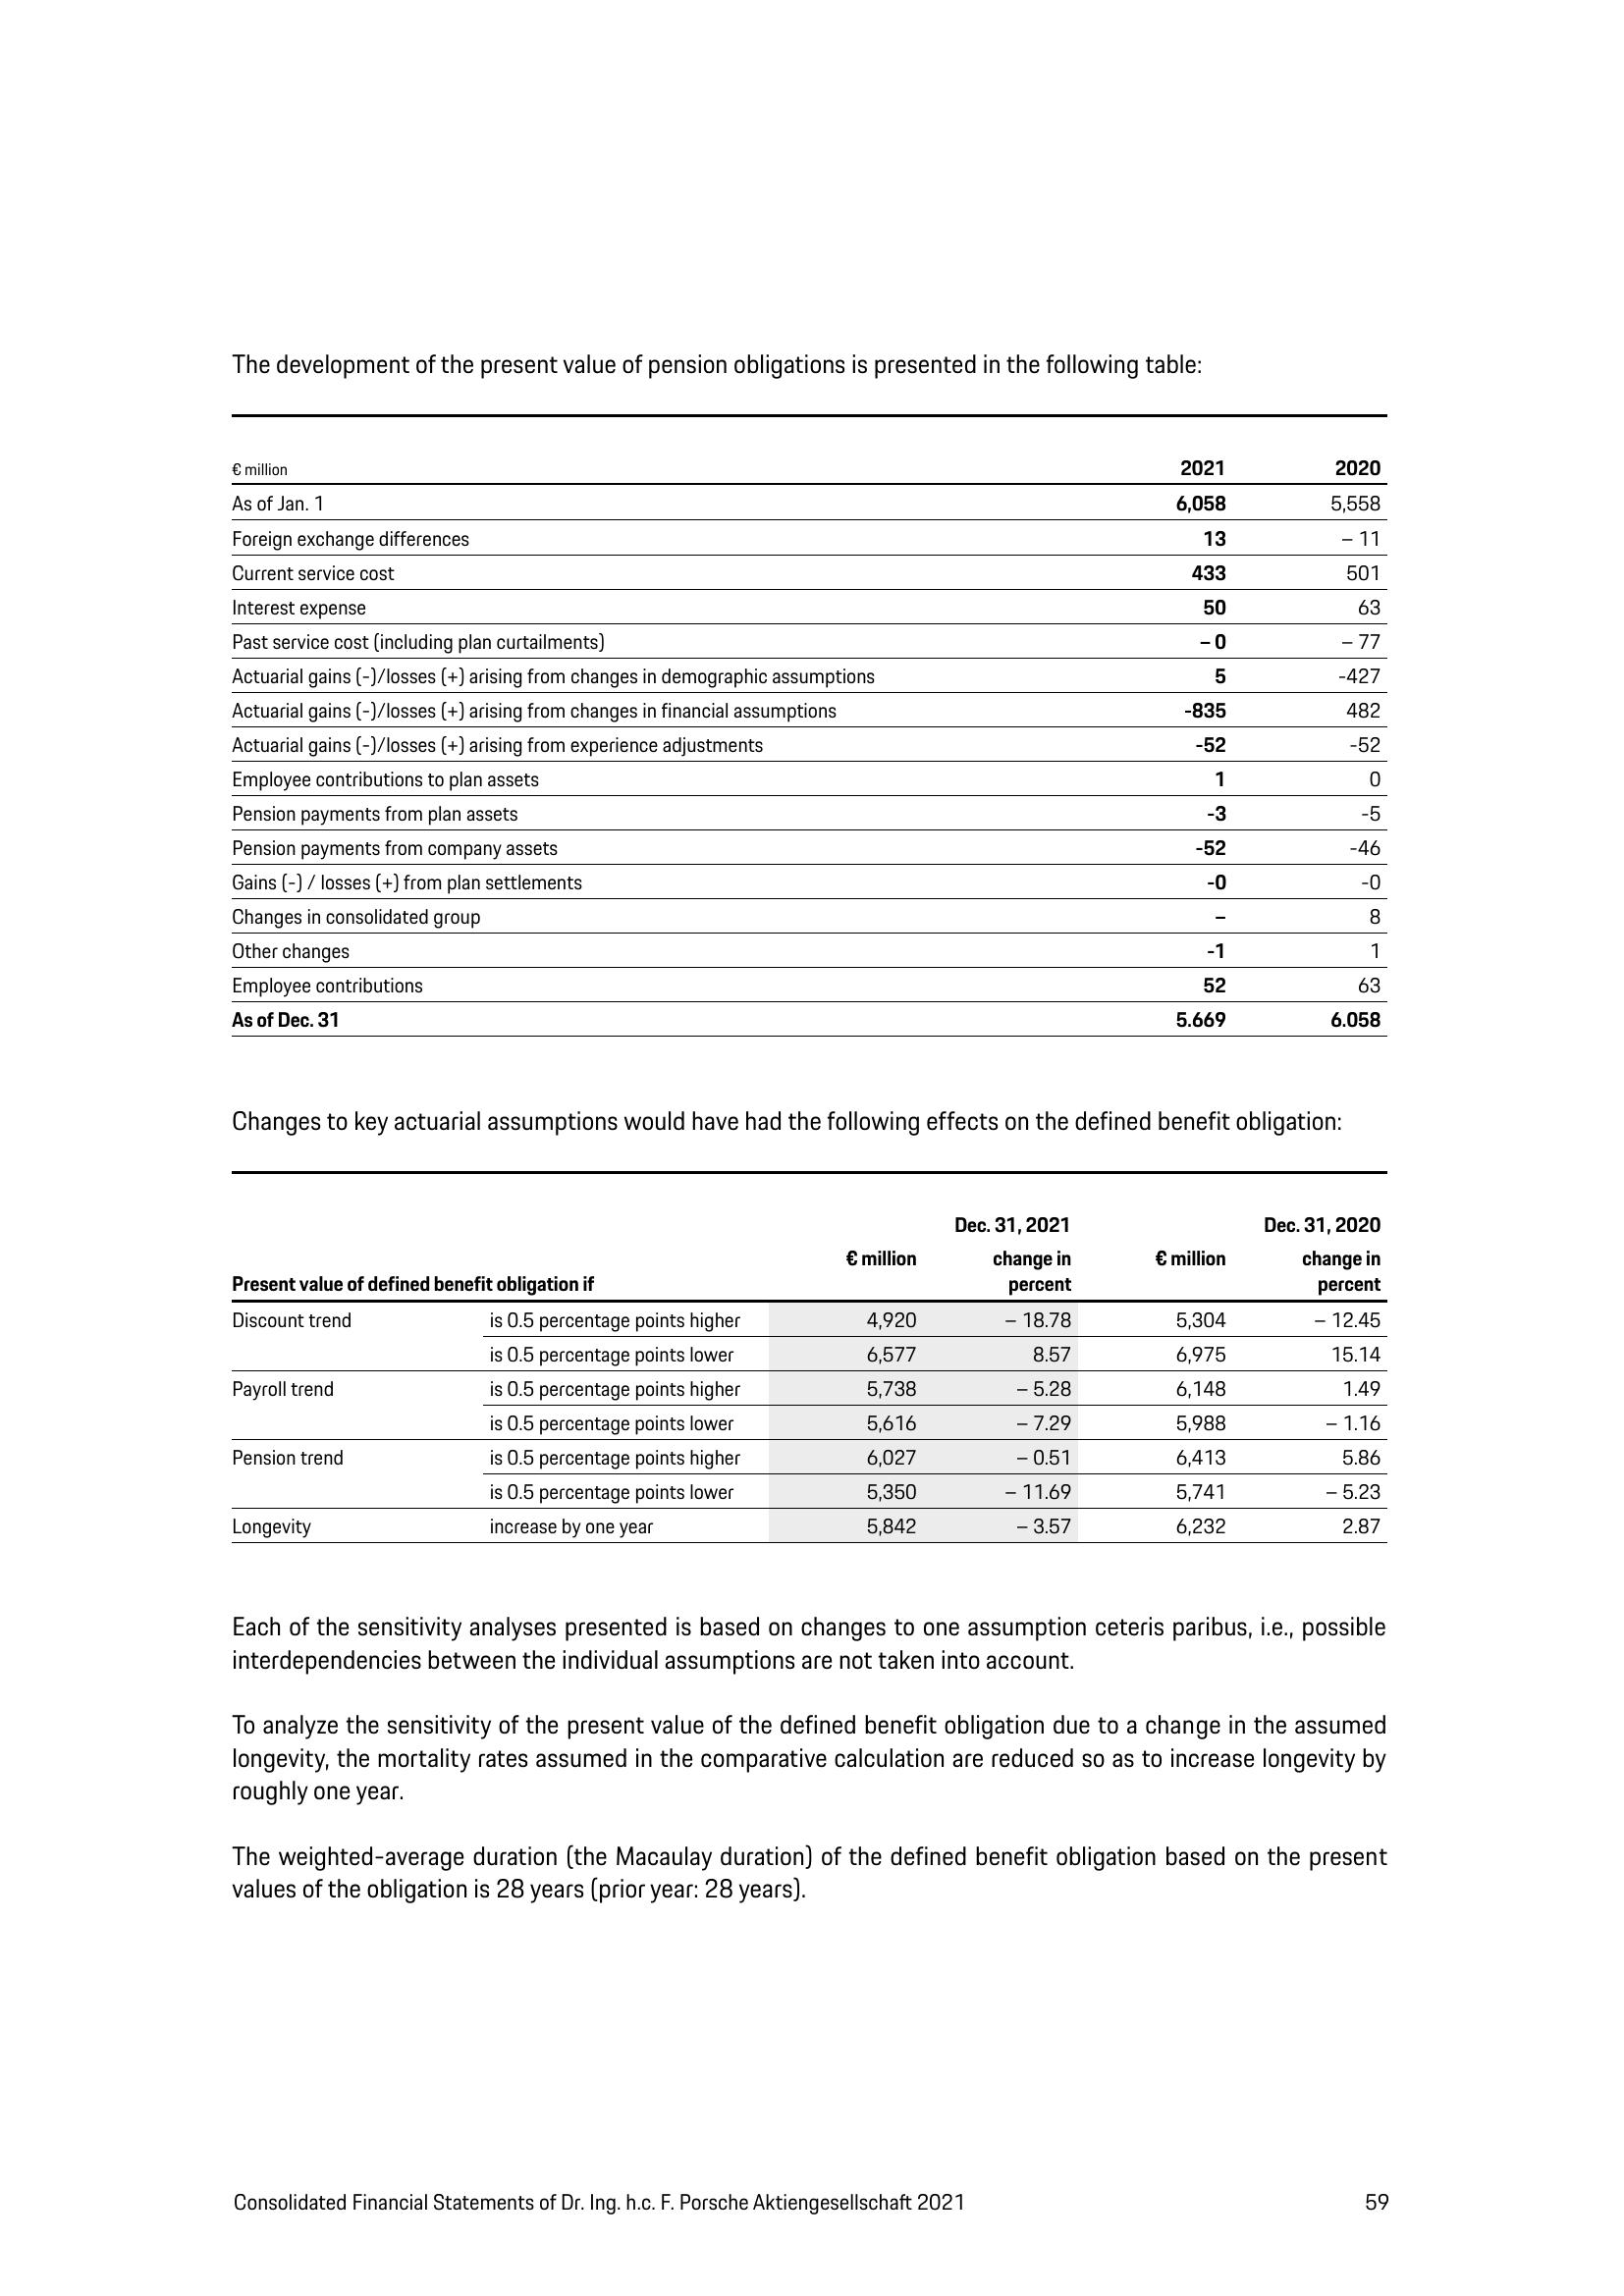Footer: (0, 2143, 1624, 2296)
Header: (0, 0, 1624, 214)
Table: (213, 399, 1452, 1047), (195, 1163, 1446, 1593)
